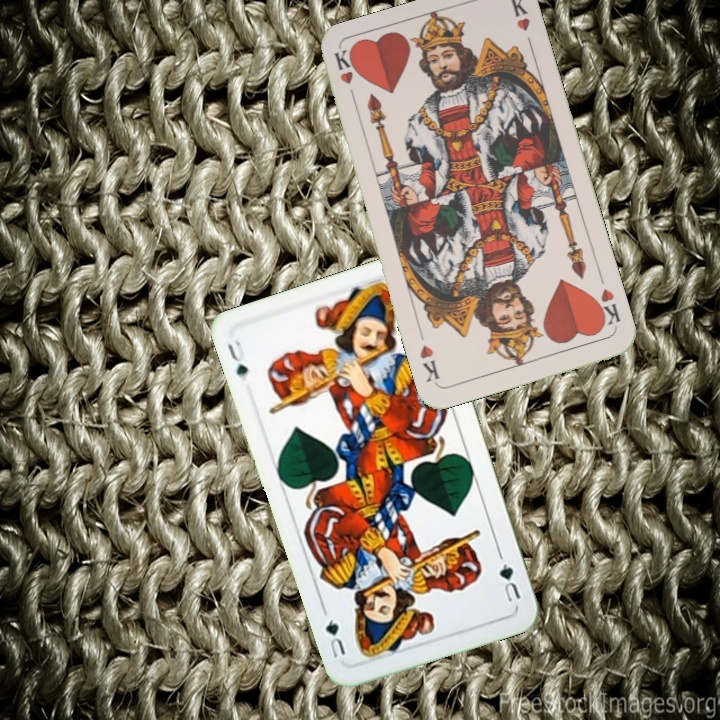GU: (223, 336, 251, 384), (495, 559, 524, 605)
HK: (329, 46, 359, 106), (590, 285, 623, 331)
